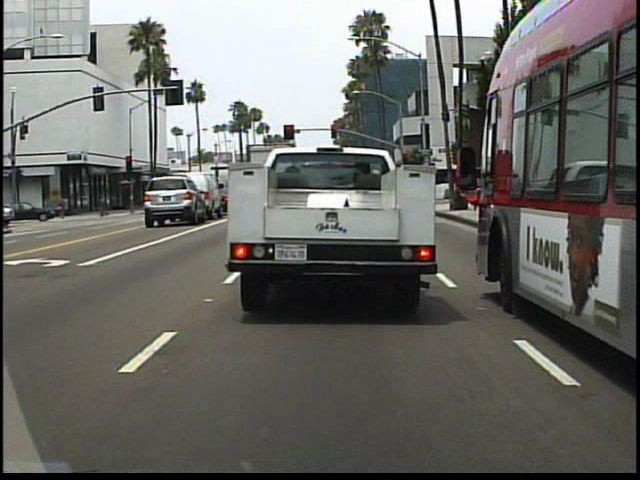person: (59, 192, 70, 220)
